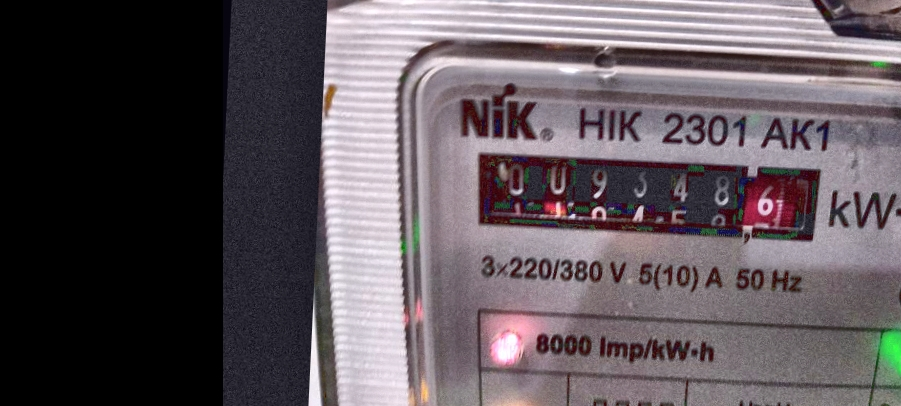0: (547, 161, 569, 198), (506, 161, 527, 197)
3: (629, 165, 652, 198)
4: (668, 167, 691, 205)
6: (755, 181, 779, 216)
8: (711, 171, 733, 206)
9: (590, 164, 609, 198)
screen: (452, 136, 841, 256)
